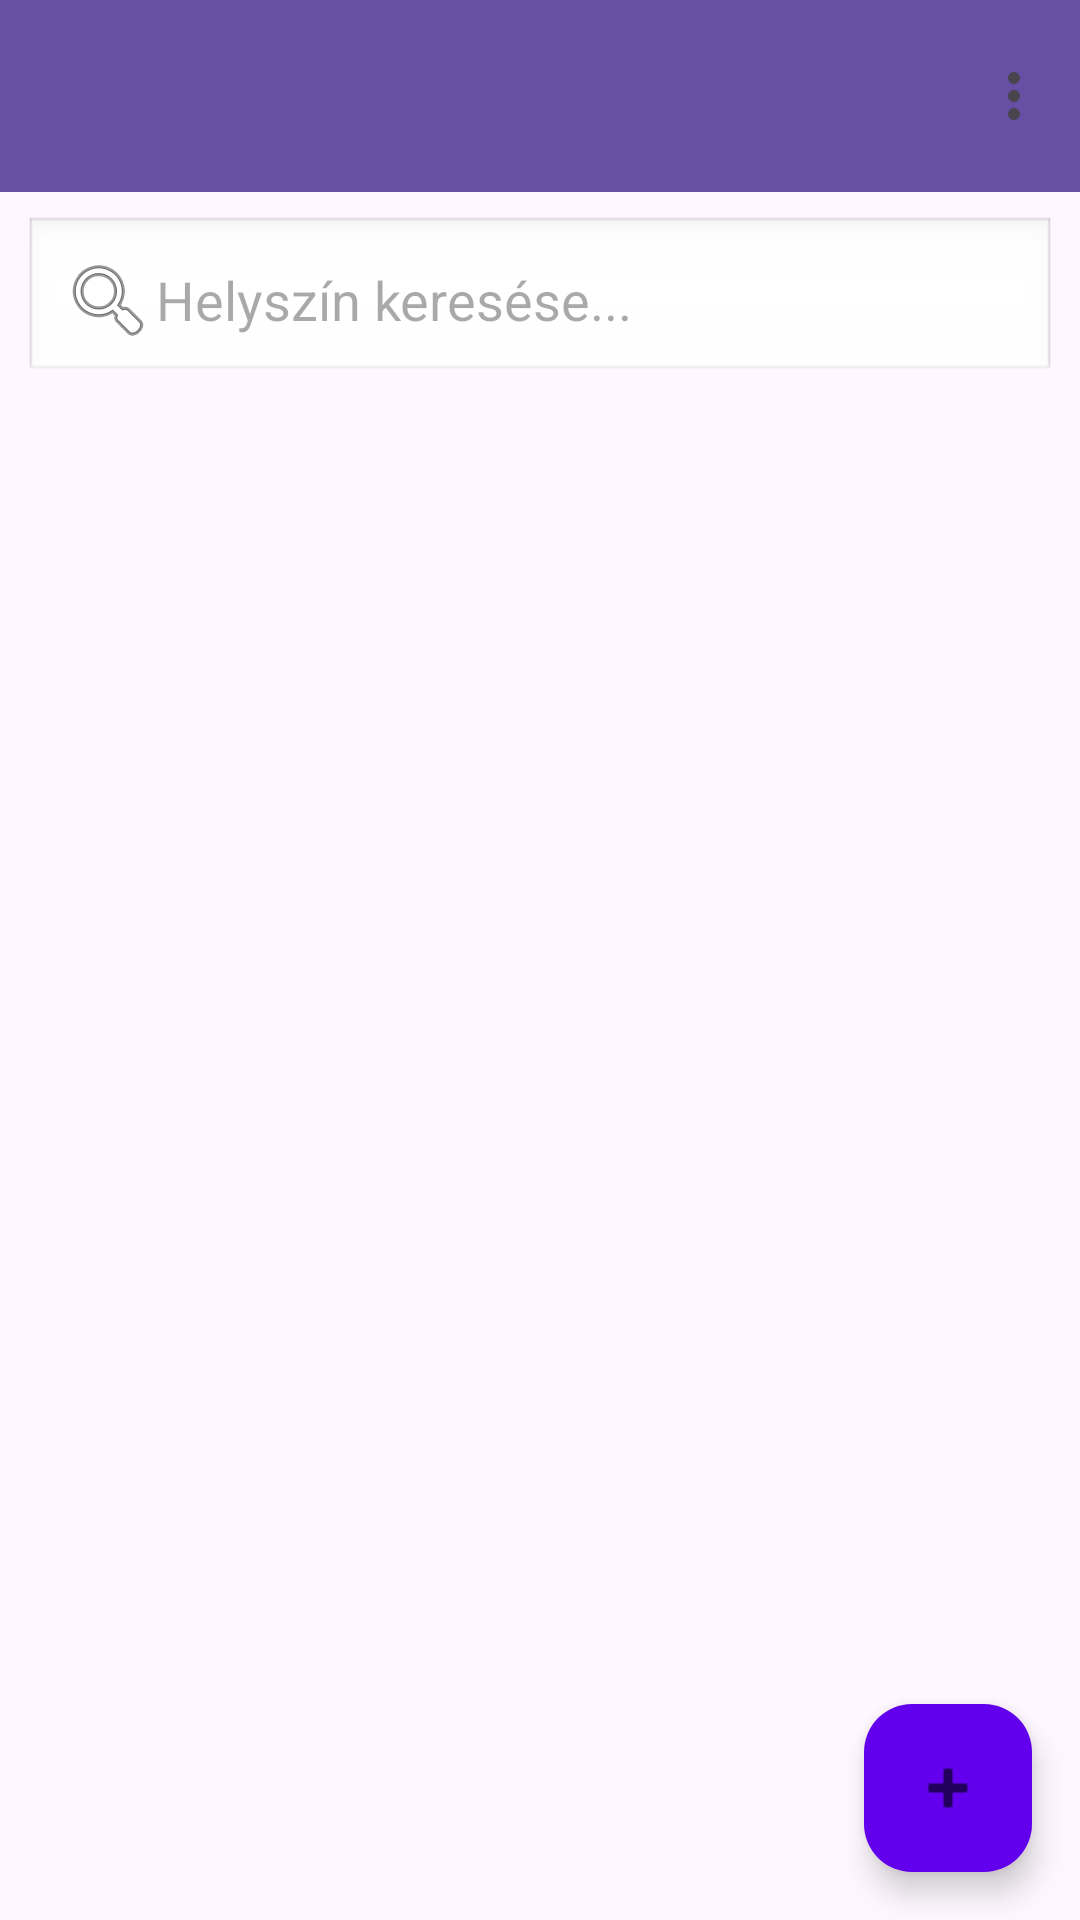

Icons on this 1080x1920 Android screen, each with the point to tap as (x=x, y=y):
Új helyszín hozzáadása: (x=948, y=1788)
